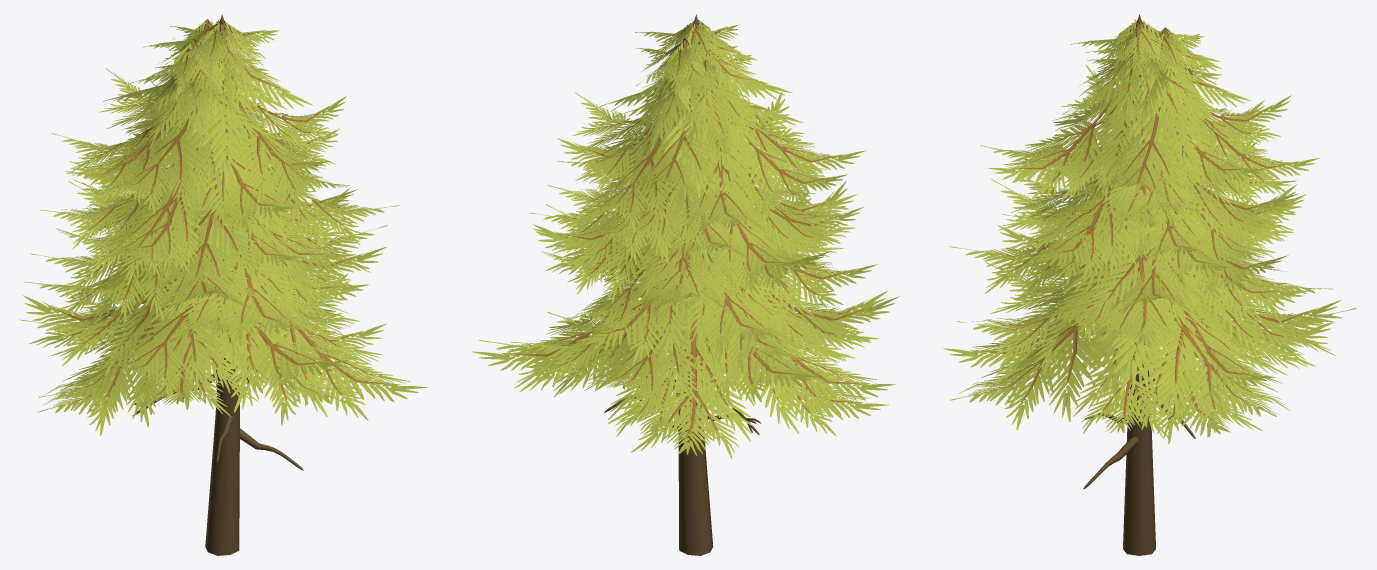
File: approved-pine-8.obj
The picture shows the model from 3 angles, left to right: view 1: azimuth 30°, elevation 25°; view 2: azimuth 150°, elevation 25°; view 3: azimuth 270°, elevation 25°; orthographic projection.
Visible parts, largest first — view 1: approved-pine-8; view 2: approved-pine-8; view 3: approved-pine-8.
Boxes of the visible parts, bbox=[...] form: approved-pine-8: bbox=[20, 14, 427, 555]; approved-pine-8: bbox=[471, 14, 899, 555]; approved-pine-8: bbox=[942, 14, 1356, 555].
Size of the model in its own units: 1.39 by 1.9 by 1.38.
Materials: 2 (2 with a texture image).
